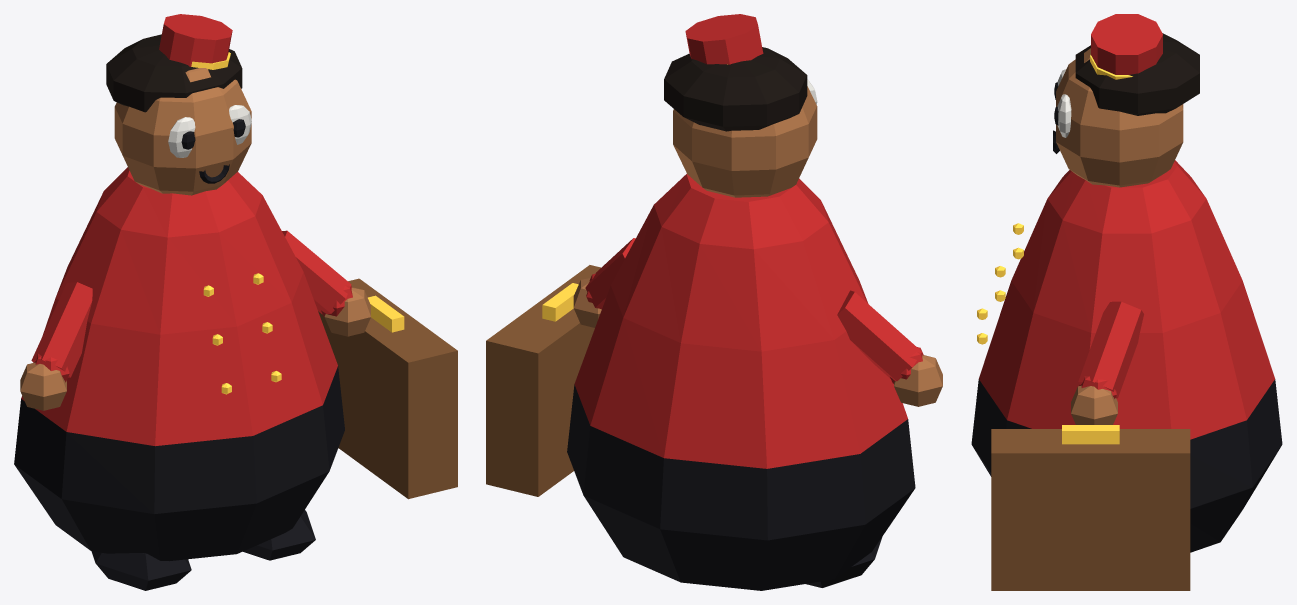
The model's file is npc_botones.glb.
3 views of the same model, side by side, from view 1: azimuth 30°, elevation 25°; view 2: azimuth 150°, elevation 25°; view 3: azimuth 270°, elevation 25° (orthographic). The views are drawn at different scales.
Parts seen in each view (by area): view 1: body_bellboy_red, body_black, suitcase_suitcase_brown, head_skin_canela, arms_bellboy_red, head_hair_black, legs_black, arms_skin_canela, hat_bellboy_red, face_white, suitcase_gold, face_black (+1 smaller); view 2: body_bellboy_red, body_black, suitcase_suitcase_brown, head_skin_canela, head_hair_black, arms_bellboy_red, hat_bellboy_red, arms_skin_canela, suitcase_gold, legs_black; view 3: body_bellboy_red, suitcase_suitcase_brown, body_black, head_skin_canela, head_hair_black, arms_bellboy_red, hat_bellboy_red, arms_skin_canela, suitcase_gold, body_gold, face_white.
Boxes of the visible parts, x1,y1,x2,y2 form: body_bellboy_red: (21,167,337,446); body_black: (14,366,344,561); suitcase_suitcase_brown: (318,278,457,499); head_skin_canela: (114,68,251,195); arms_bellboy_red: (31,230,352,382); head_hair_black: (106,34,242,112); legs_black: (91,510,315,590); arms_skin_canela: (20,287,370,410); hat_bellboy_red: (159,14,232,66); face_white: (168,105,251,157); suitcase_gold: (368,295,404,332); face_black: (181,119,245,183); body_bellboy_red: (574,174,907,468); body_black: (567,384,915,590); suitcase_suitcase_brown: (486,265,600,496); head_skin_canela: (673,86,817,197); head_hair_black: (664,47,807,131); arms_bellboy_red: (585,238,923,383); hat_bellboy_red: (685,14,763,64); arms_skin_canela: (573,277,942,406); suitcase_gold: (542,283,578,321); legs_black: (806,537,882,587); body_bellboy_red: (979,160,1274,439); suitcase_suitcase_brown: (991,429,1190,590); body_black: (971,379,1282,552); head_skin_canela: (1056,48,1183,187); head_hair_black: (1075,33,1199,115); arms_bellboy_red: (1078,301,1143,398); hat_bellboy_red: (1091,14,1162,74); arms_skin_canela: (1071,385,1117,424); suitcase_gold: (1062,425,1119,444); body_gold: (977,223,1023,344); face_white: (1057,69,1071,137).
Bounding box in the file's own units: 1.25 × 1.61 × 0.86.
